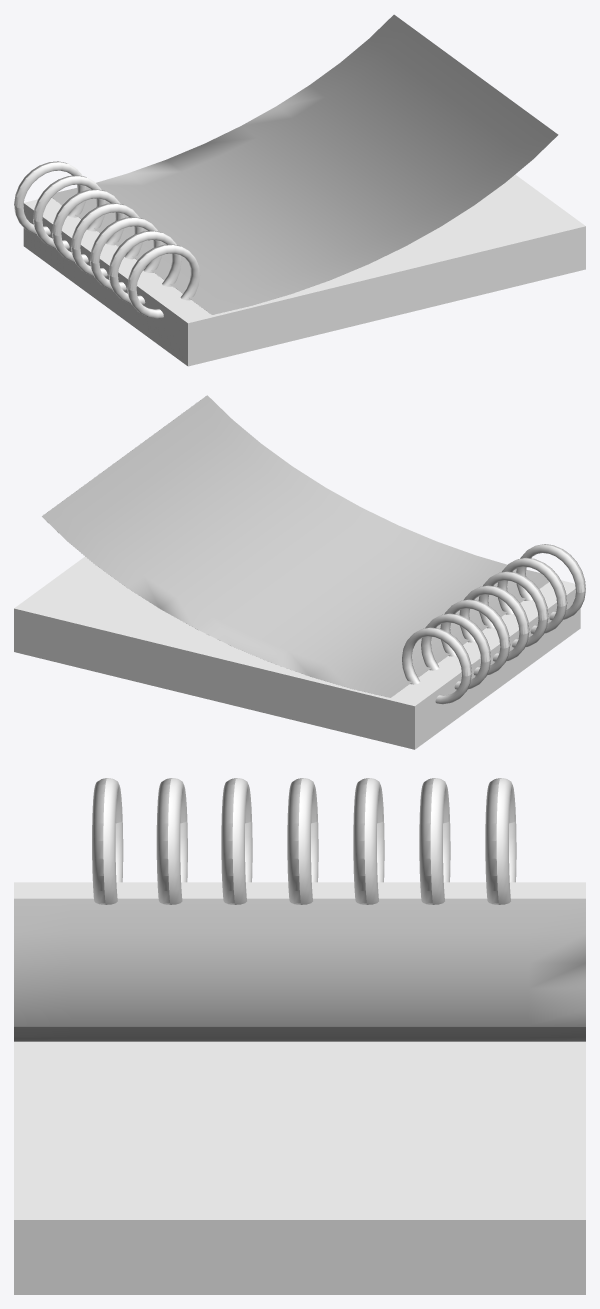
File: Notepad.obj
3 views of the same model, one above another, from view 1: azimuth 30°, elevation 25°; view 2: azimuth 150°, elevation 25°; view 3: azimuth 270°, elevation 25° (orthographic). The views are drawn at different scales.
Parts seen in each view (by area): view 1: ChamferBo0, ChamferBox, Torus007, Torus006, Torus004, Torus005, Torus001, Torus002, Torus003; view 2: ChamferBo0, ChamferBox, Torus001, Torus002, Torus007, Torus006, Torus005, Torus004, Torus003; view 3: ChamferBox, ChamferBo0, Torus002, Torus003, Torus004, Torus005, Torus001, Torus006, Torus007.
Boxes of the visible parts, left/top/right/bottom form: ChamferBo0: left=52, top=14, right=558, bottom=314; ChamferBox: left=23, top=174, right=585, bottom=366; Torus007: left=127, top=244, right=199, bottom=318; Torus006: left=108, top=230, right=181, bottom=304; Torus004: left=71, top=203, right=143, bottom=276; Torus005: left=90, top=217, right=162, bottom=290; Torus001: left=14, top=161, right=86, bottom=235; Torus002: left=33, top=175, right=105, bottom=249; Torus003: left=52, top=189, right=124, bottom=262; ChamferBo0: left=42, top=395, right=549, bottom=697; ChamferBox: left=14, top=556, right=580, bottom=749; Torus001: left=402, top=627, right=471, bottom=704; Torus002: left=421, top=613, right=490, bottom=689; Torus007: left=516, top=544, right=585, bottom=620; Torus006: left=497, top=557, right=567, bottom=633; Torus005: left=478, top=571, right=548, bottom=647; Torus004: left=459, top=585, right=529, bottom=661; Torus003: left=440, top=599, right=510, bottom=675; ChamferBox: left=14, top=882, right=585, bottom=1294; ChamferBo0: left=14, top=898, right=585, bottom=1041; Torus002: left=419, top=778, right=450, bottom=904; Torus003: left=353, top=778, right=384, bottom=904; Torus004: left=287, top=778, right=318, bottom=904; Torus005: left=221, top=778, right=252, bottom=904; Torus001: left=485, top=778, right=516, bottom=904; Torus006: left=156, top=778, right=187, bottom=904; Torus007: left=92, top=778, right=123, bottom=904.
Size of the model in its own units: 60.95 by 19.14 by 40.41.
3 materials, 2 textured.
